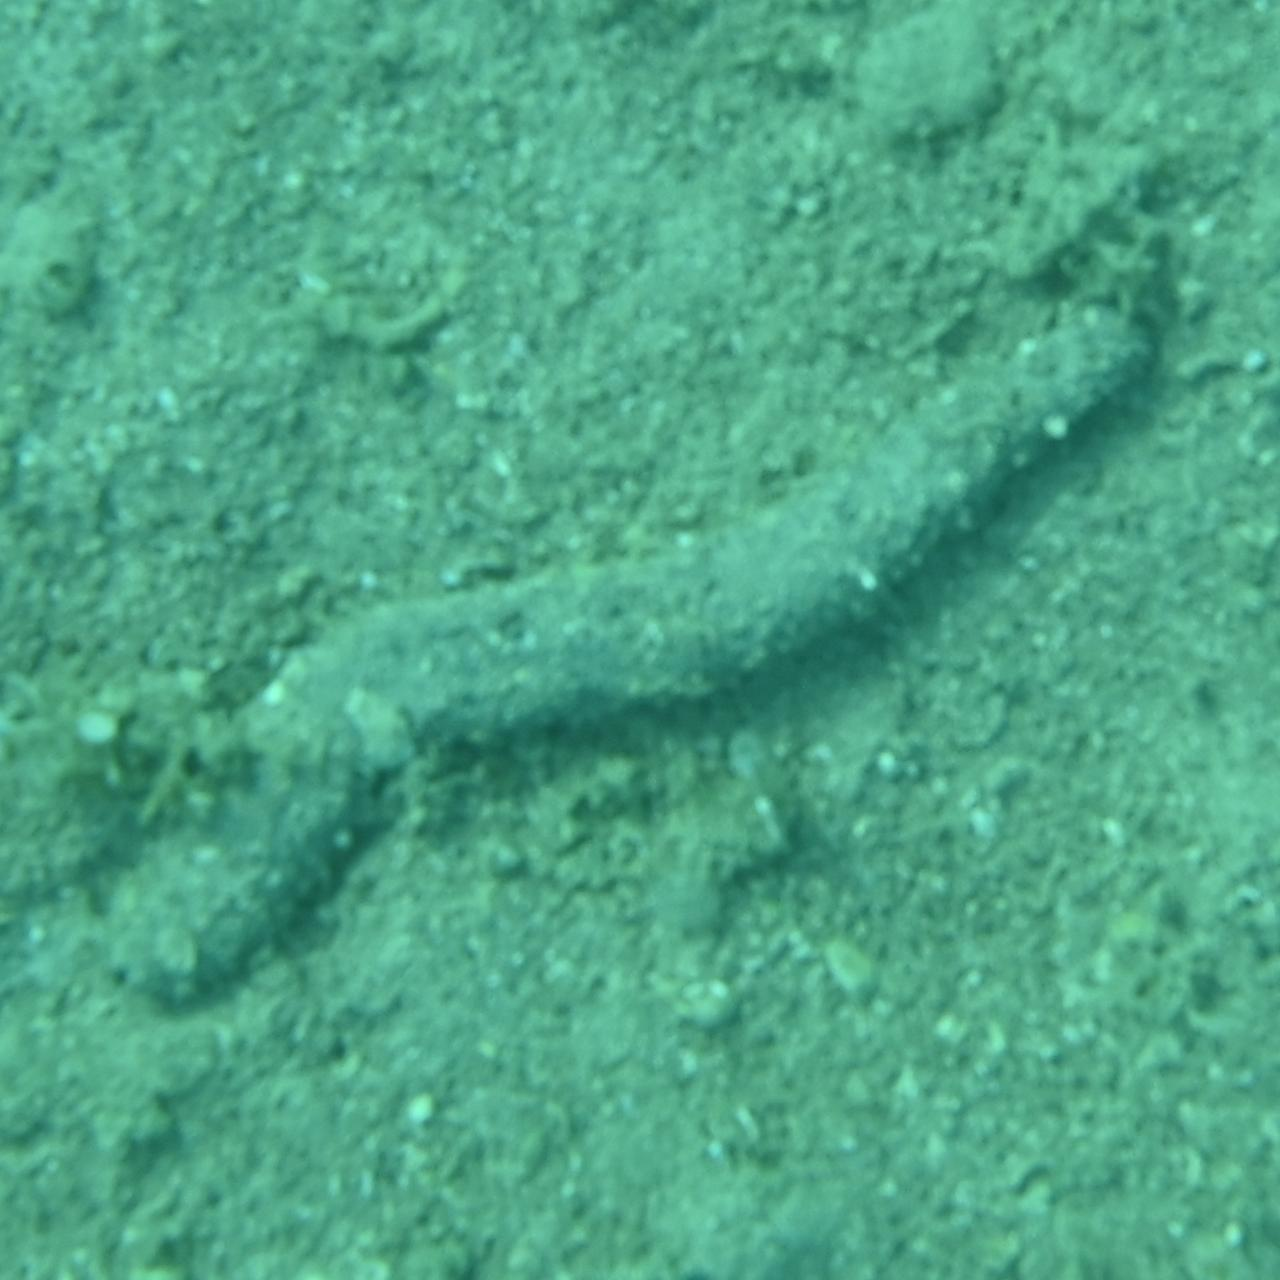Holothuria tubulosa: (94, 272, 1186, 1008)
